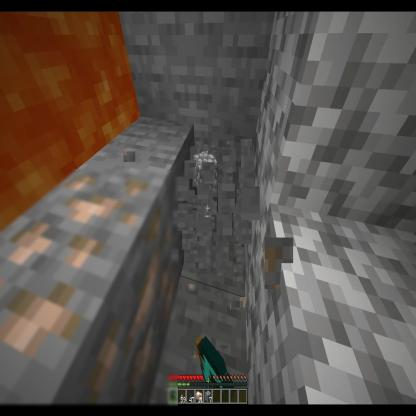iron ore: (0, 169, 178, 415)
